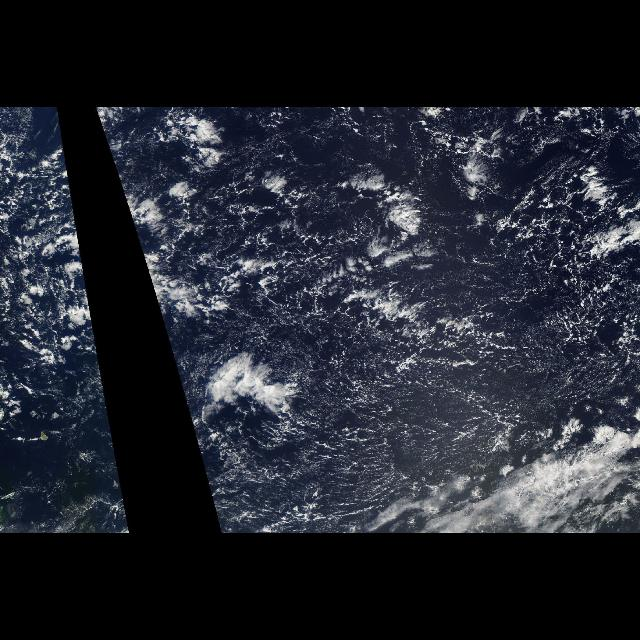Gravel: (167, 108, 639, 444)
Sugar: (253, 339, 639, 521), (221, 108, 419, 186)
